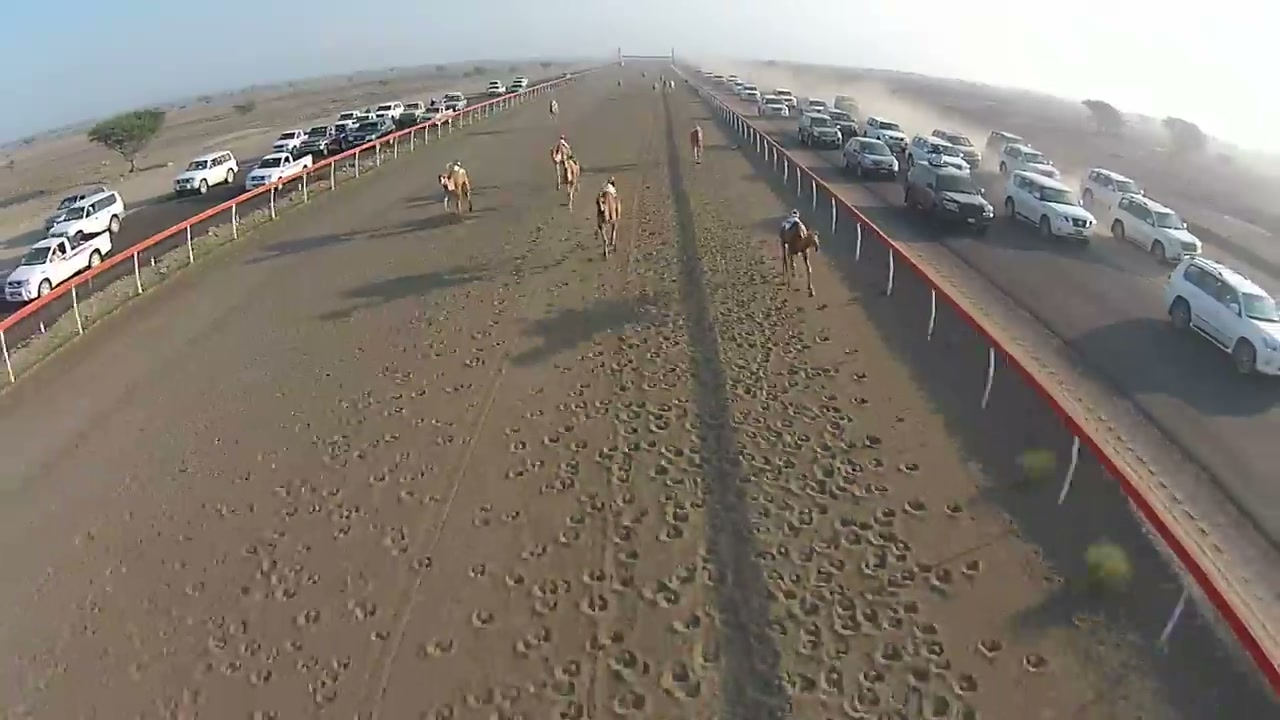animal_foot_print: (149, 224, 479, 713), (754, 284, 1079, 702), (308, 204, 560, 706), (433, 278, 709, 700)
